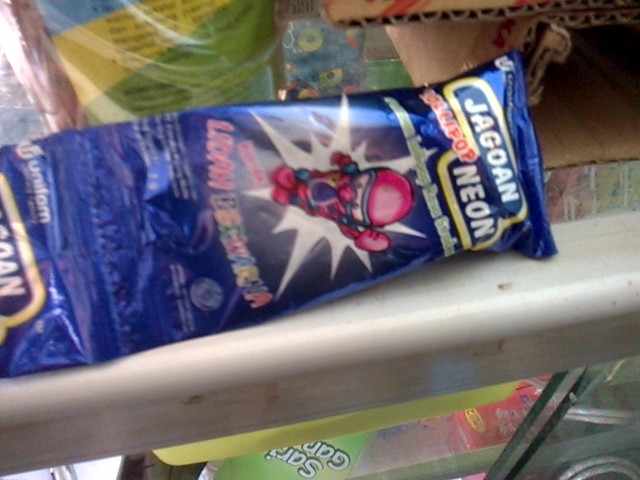jagoan neon: (79, 46, 559, 354)
